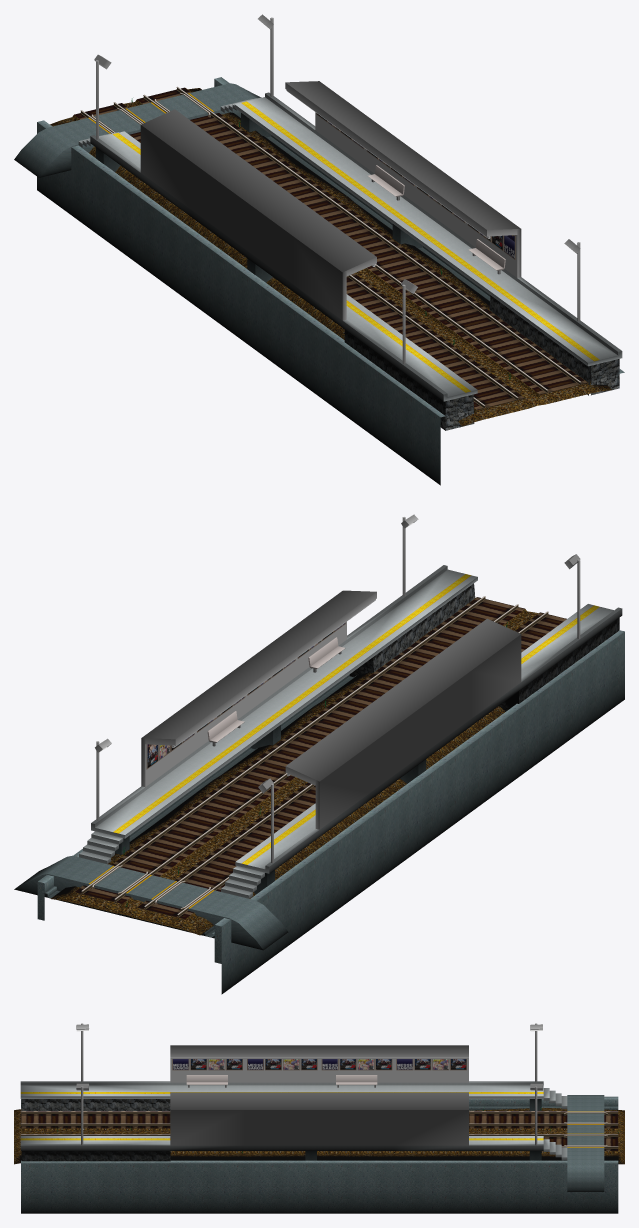
Rendered from KUJO_ST.glb.
The picture shows the model from 3 angles, top to bottom: view 1: azimuth 30°, elevation 25°; view 2: azimuth 150°, elevation 25°; view 3: azimuth 270°, elevation 25°; orthographic projection. The views are drawn at different scales.
Parts seen in each view (by area): view 1: rail_small, bone0, bone6-8, bone1, bone5, bone7, bone4, bone3; view 2: rail_small, bone0, bone6-8, bone1, bone7, bone4, bone5, bone3; view 3: rail_small, bone0, bone6-8, bone3, bone5, bone4, bone2, bone1, bone2-5, bone7.
Boxes of the visible parts, x1,y1,x2,y2 form: rail_small: (37, 77, 624, 485); bone0: (14, 83, 261, 177); bone6-8: (344, 295, 619, 430); bone1: (94, 14, 273, 171); bone5: (425, 224, 515, 316); bone7: (401, 239, 580, 379); bone4: (247, 187, 465, 282); bone3: (366, 150, 414, 200); rail_small: (37, 565, 624, 994); bone0: (14, 831, 288, 950); bone6-8: (349, 583, 619, 711); bone1: (95, 738, 274, 894); bone7: (401, 514, 580, 638); bone4: (247, 659, 426, 783); bone5: (297, 622, 345, 707); bone3: (197, 696, 245, 746); rail_small: (14, 1045, 624, 1213); bone0: (543, 1088, 618, 1191); bone6-8: (21, 1099, 170, 1161); bone3: (321, 1059, 392, 1087); bone5: (172, 1059, 242, 1153); bone4: (247, 1059, 317, 1160); bone2: (396, 1059, 466, 1070); bone1: (483, 1023, 542, 1160); bone2-5: (170, 1057, 468, 1058); bone7: (57, 1023, 89, 1145).
Bounding box in the file's own units: 35.74 × 23.31 × 102.
Materials: 36 (23 with a texture image).
